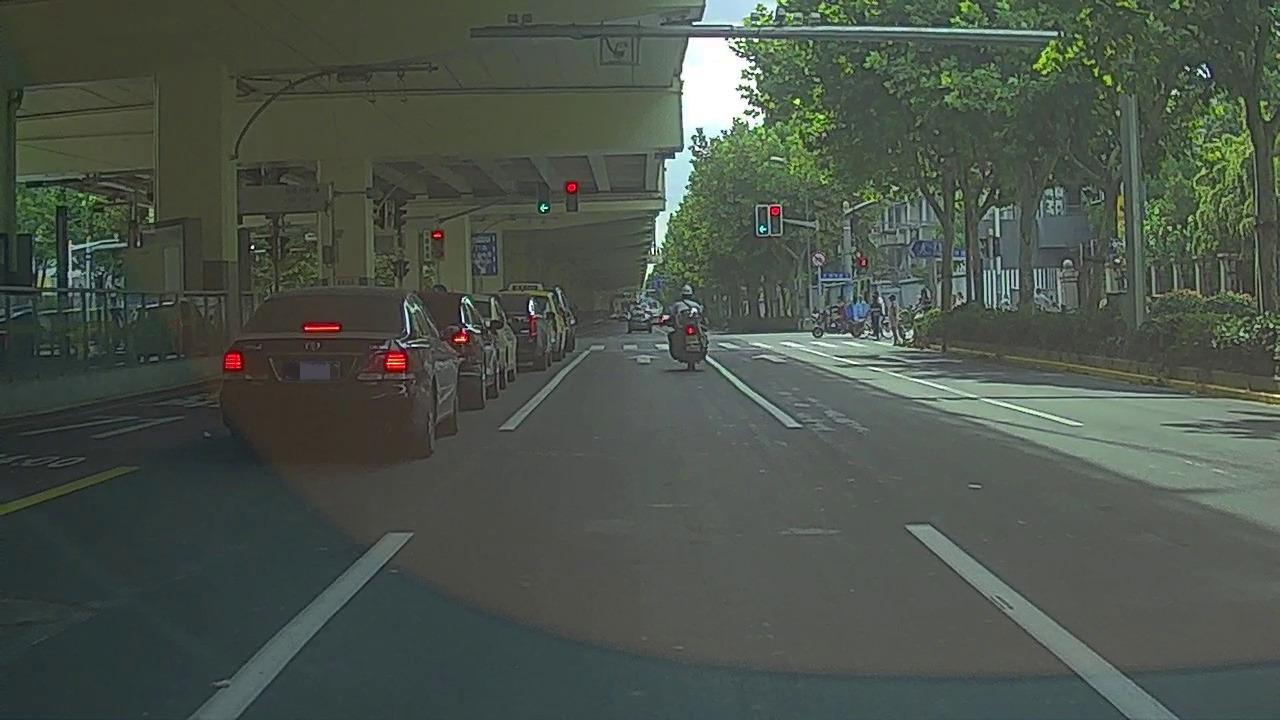traffic_light: (538, 181, 551, 213), (566, 180, 578, 212), (758, 205, 769, 234), (771, 206, 781, 234)
